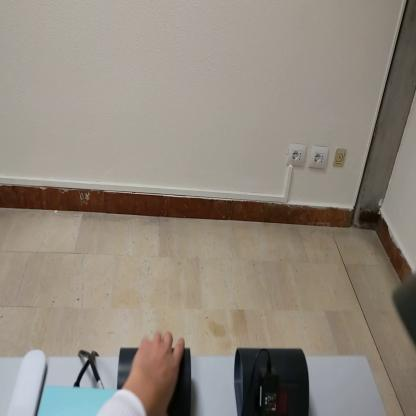hand: (127, 330, 186, 407)
socket: (232, 347, 311, 415), (118, 347, 193, 416)
